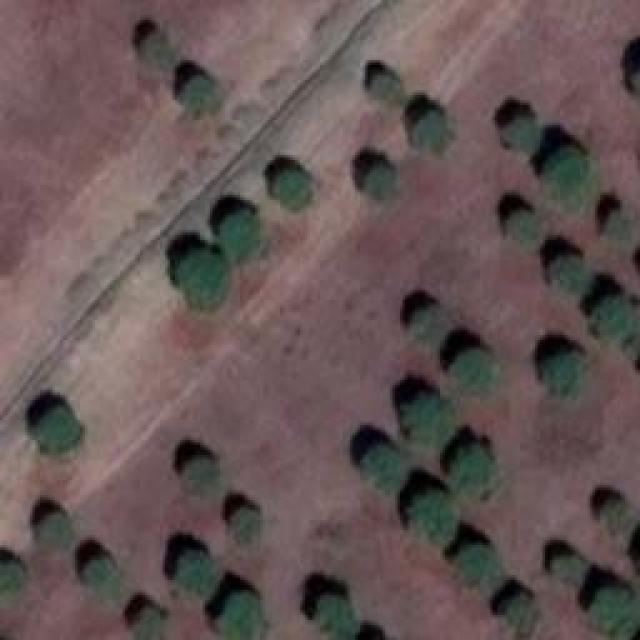Tree: (178, 248, 228, 308), (543, 150, 588, 213), (215, 592, 265, 640), (220, 213, 263, 266), (405, 393, 450, 443), (410, 488, 455, 538), (453, 445, 496, 495), (175, 75, 218, 123), (35, 403, 80, 446), (448, 350, 493, 393), (363, 445, 406, 490), (598, 297, 638, 345), (178, 553, 221, 596), (410, 110, 450, 155), (545, 353, 588, 393), (313, 595, 356, 635), (455, 543, 495, 583), (85, 558, 120, 603), (273, 172, 313, 210), (595, 590, 633, 630), (500, 115, 540, 153), (410, 307, 448, 345), (550, 252, 585, 290), (502, 595, 540, 630), (0, 563, 28, 606), (228, 508, 261, 543), (508, 213, 543, 246), (360, 168, 398, 198), (132, 607, 165, 640), (370, 75, 408, 103), (605, 500, 633, 538), (38, 513, 73, 543), (183, 460, 216, 490), (553, 557, 588, 585), (140, 33, 170, 63), (605, 207, 628, 235)
